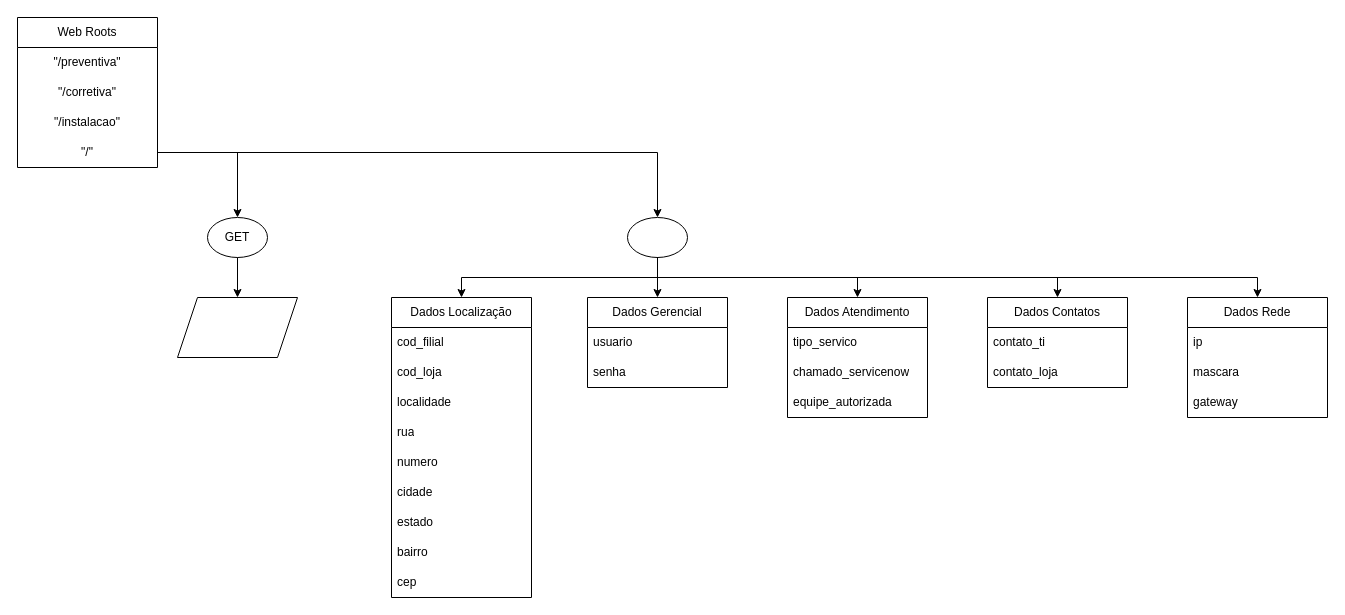
This 1345x615 diagram has some shape labels left out. The centre of each missing label's shape, as x and y in pixels:
"instalacao.html" goes at [237,327].
"POST" goes at [657,237].
